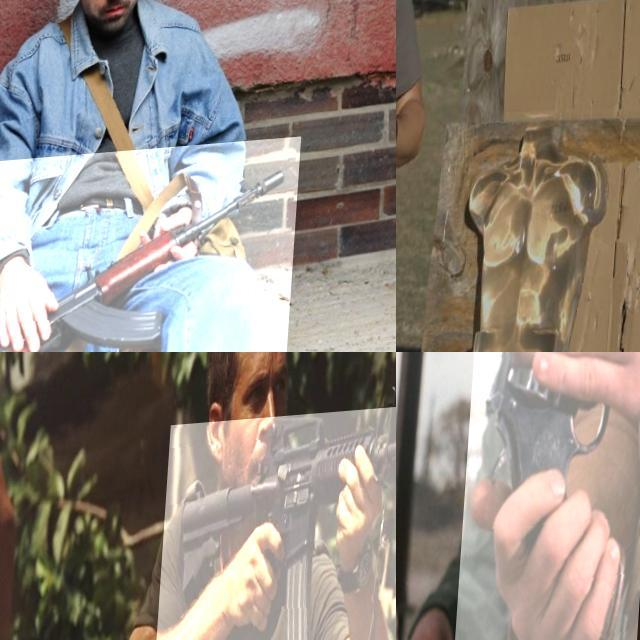-: (396, 43, 415, 152)
gun-knife-thesis - v11 Yolov5 augmented: (0, 144, 305, 352), (160, 412, 396, 640), (460, 352, 640, 640)
